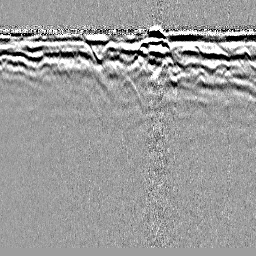cavity: (114, 76, 141, 102)
